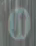Two way: (4, 3, 33, 45)
